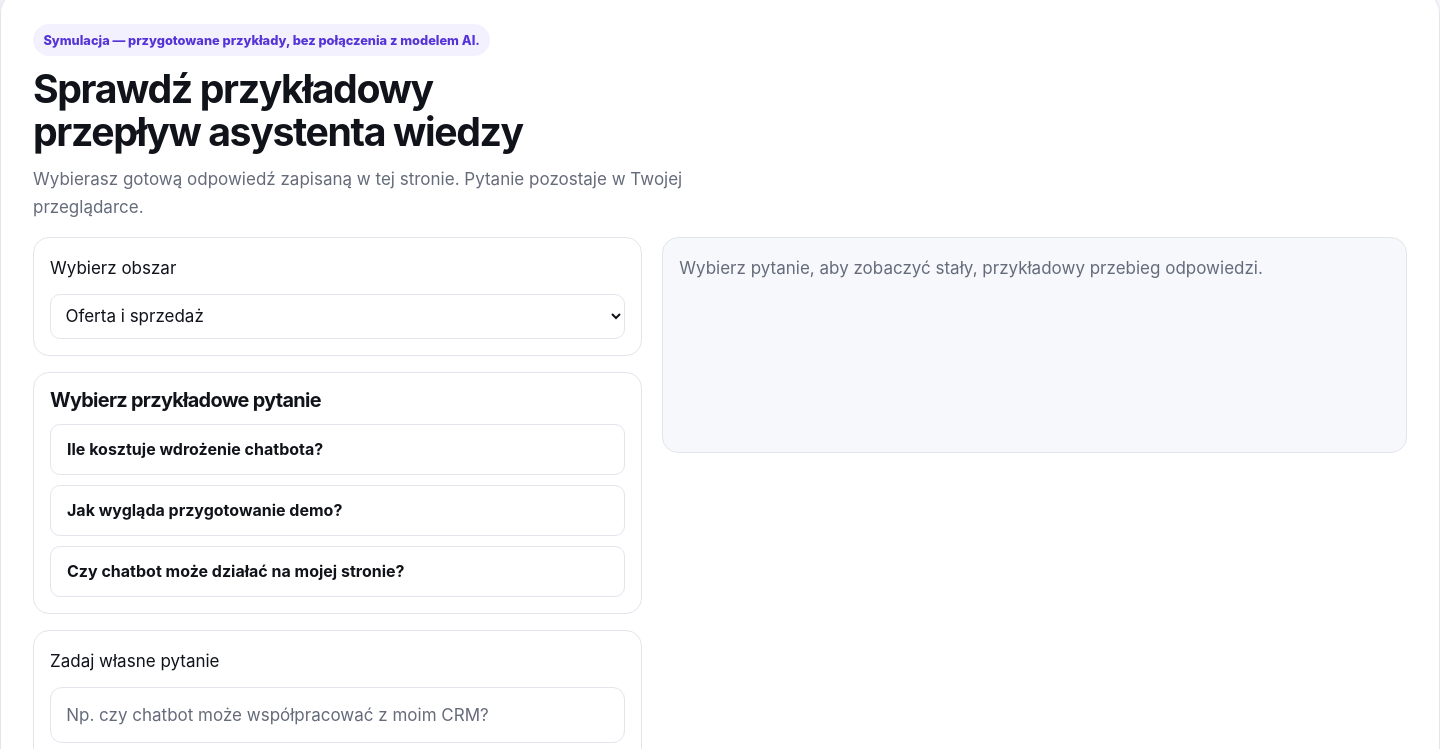
KnowledgeDemoComponent › changes category and resets the visible conversation state
Click the button "Ile kosztuje wdrożenie chatbota?" at point(195, 449), box x1=50 y1=424 x2=625 y2=474
(page scrolled)
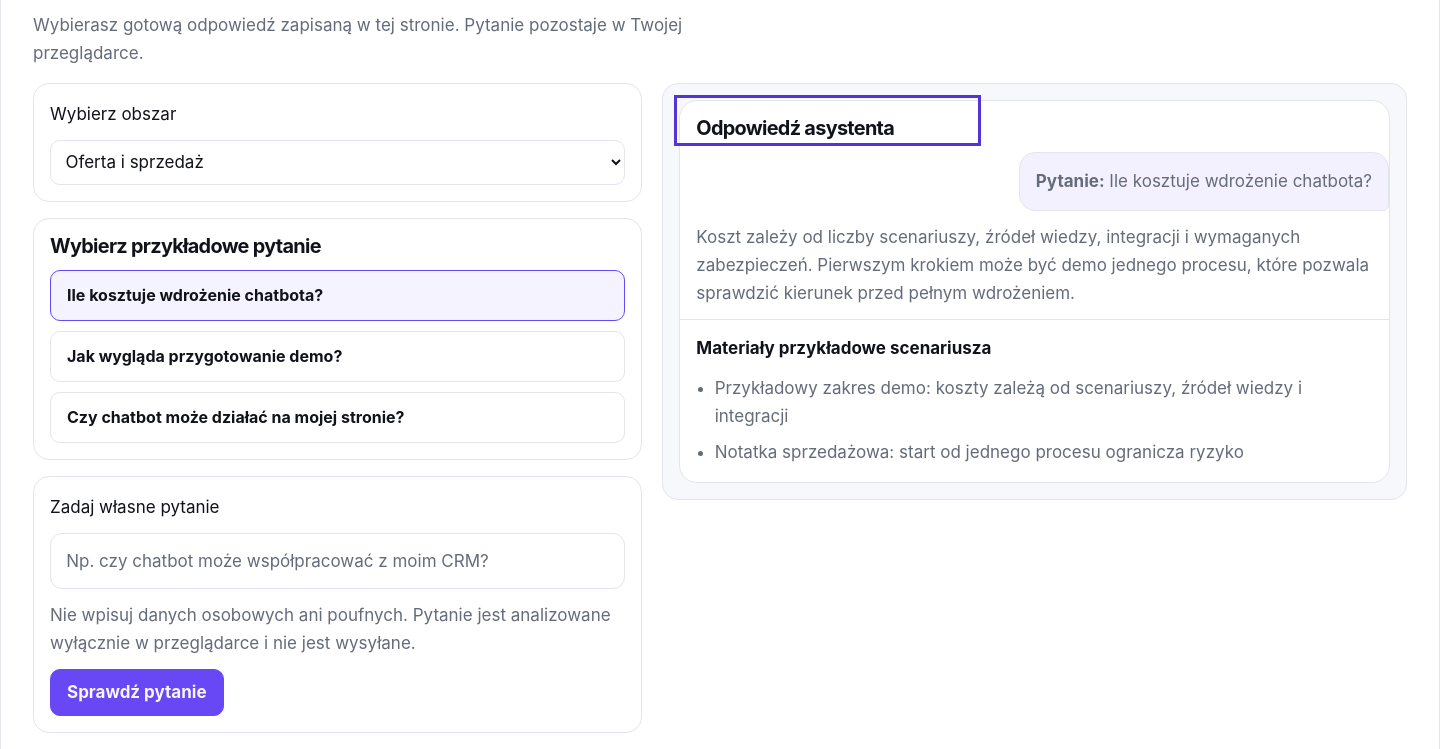
Select "Wiedza firmowa" in the dropdown with id "demo-category" at point(338, 162), box x1=50 y1=140 x2=625 y2=185
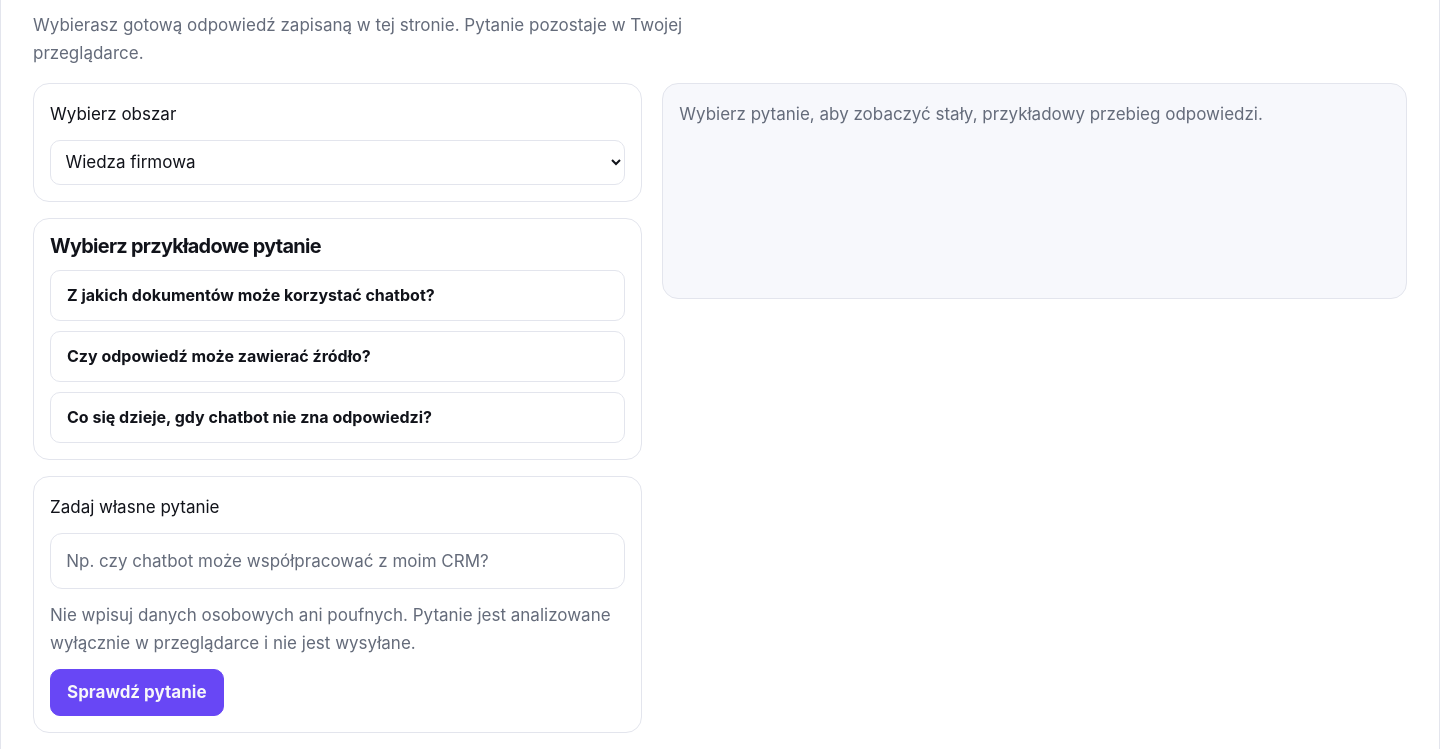
Check: the text with class "empty-state" reads "Wybierz pytanie, aby zobaczyć stały, przykładowy przebieg odpowiedzi.", box x1=679 y1=104 x2=1263 y2=124
